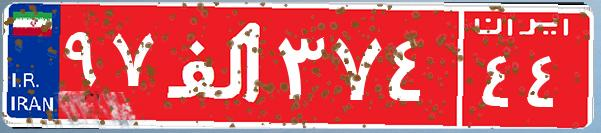3: (273, 28, 330, 110)
4: (385, 28, 445, 110), (475, 38, 525, 113), (525, 38, 570, 115)
7: (330, 28, 385, 110), (110, 28, 158, 105)
9: (57, 26, 110, 107)
الف: (158, 15, 273, 115)
